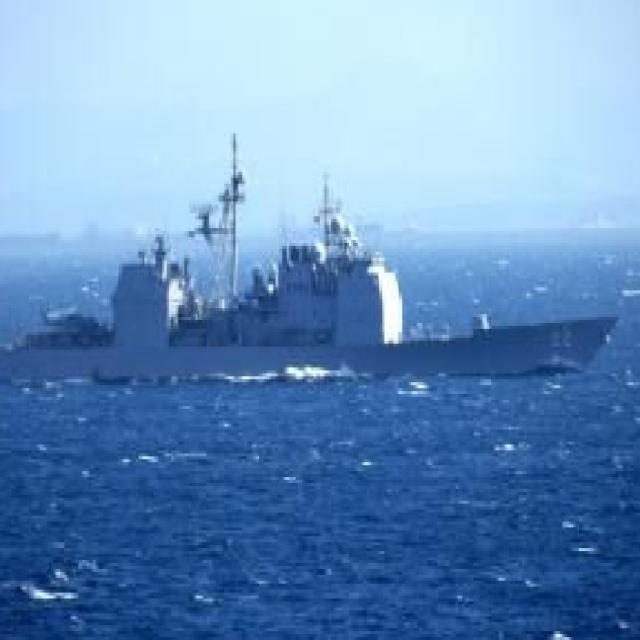navalvessels: (0, 127, 622, 386)
